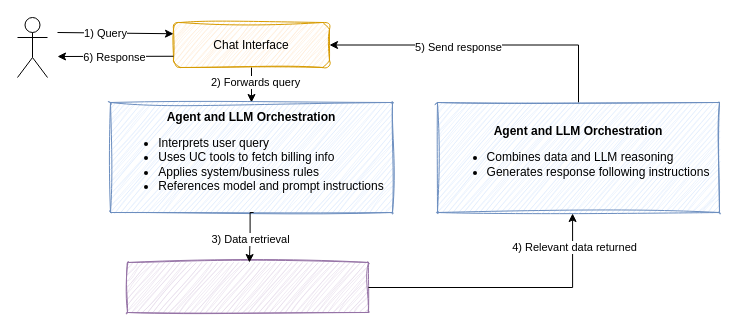
This 737x330 diagram has some shape labels left out. Here are the shapes that lost their labels. From the top down, the box of each, then its label:
(16, 16, 48, 78): User
(126, 262, 368, 312): Structured Data: Tables in UC Unstructured Data: Relevant documents
